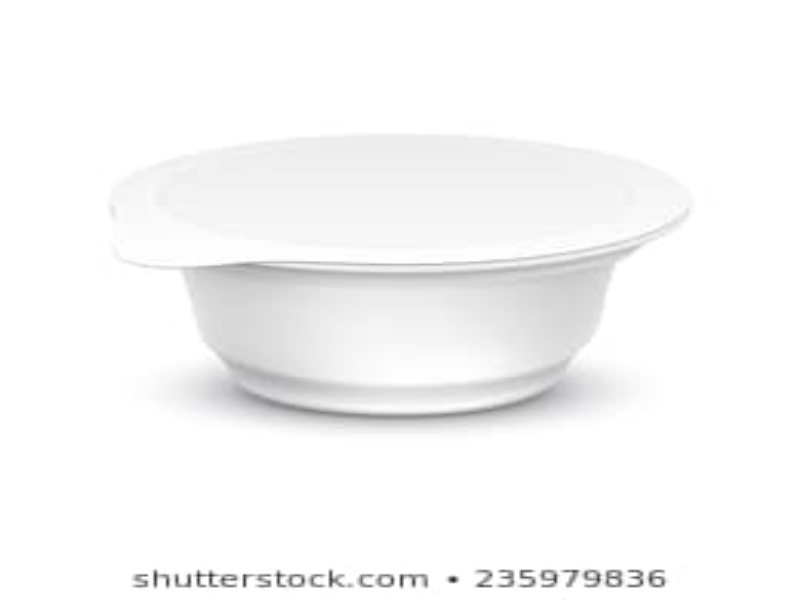yogurt-cup: (109, 132, 707, 423)
